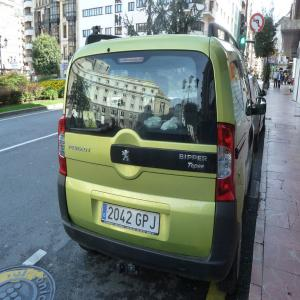Vehicle-registration-plate: (103, 204, 161, 235)
